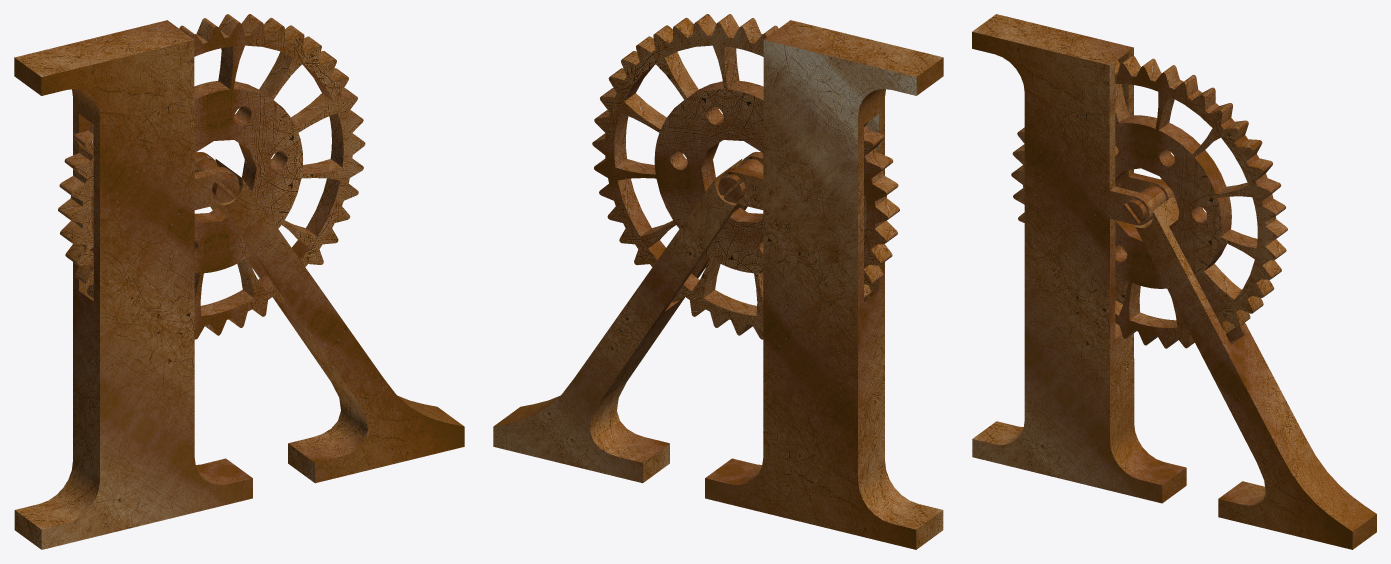
3 views of the same model, side by side, from view 1: azimuth 30°, elevation 25°; view 2: azimuth 150°, elevation 25°; view 3: azimuth 330°, elevation 25° (orthographic). The views are drawn at different scales.
Parts seen in each view (by area): view 1: R, Cogwheel_246; view 2: R, Cogwheel_246; view 3: R, Cogwheel_246, Screw_796.
Boxes of the visible parts, left/top/right/bottom form: R: left=14, top=20, right=464, bottom=549; Cogwheel_246: left=58, top=14, right=365, bottom=339; R: left=493, top=20, right=943, bottom=549; Cogwheel_246: left=592, top=14, right=899, bottom=339; R: left=972, top=14, right=1376, bottom=549; Cogwheel_246: left=1011, top=55, right=1287, bottom=348; Screw_796: left=1122, top=179, right=1173, bottom=224.
Size of the model in its own units: 90.65 by 96.9 by 12.89.
1 material, 1 textured.
